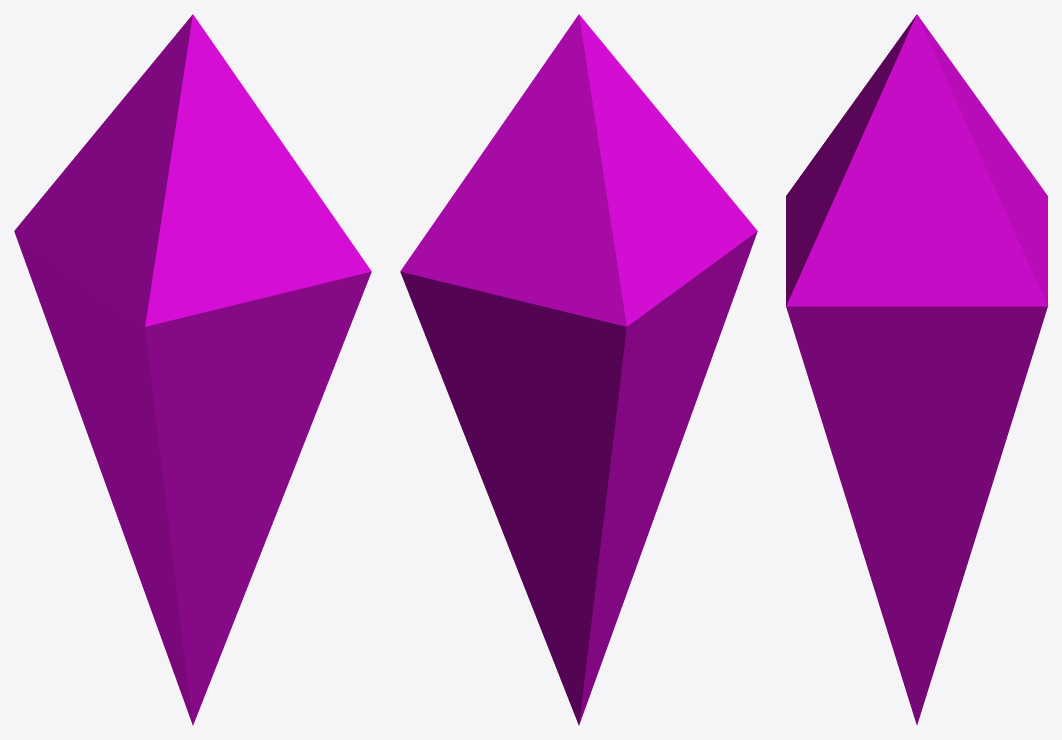
The model's file is PinkMarker.fbx.
3 views of the same model, side by side, from view 1: azimuth 30°, elevation 25°; view 2: azimuth 150°, elevation 25°; view 3: azimuth 270°, elevation 25° (orthographic).
Visible parts, largest first — view 1: PodiumMarker; view 2: PodiumMarker; view 3: PodiumMarker.
Part boxes in pixels (<box>): PodiumMarker: <box>14,14,371,725</box>; PodiumMarker: <box>400,14,757,725</box>; PodiumMarker: <box>786,14,1047,724</box>.
Size of the model in its own units: 50 by 150 by 50.
